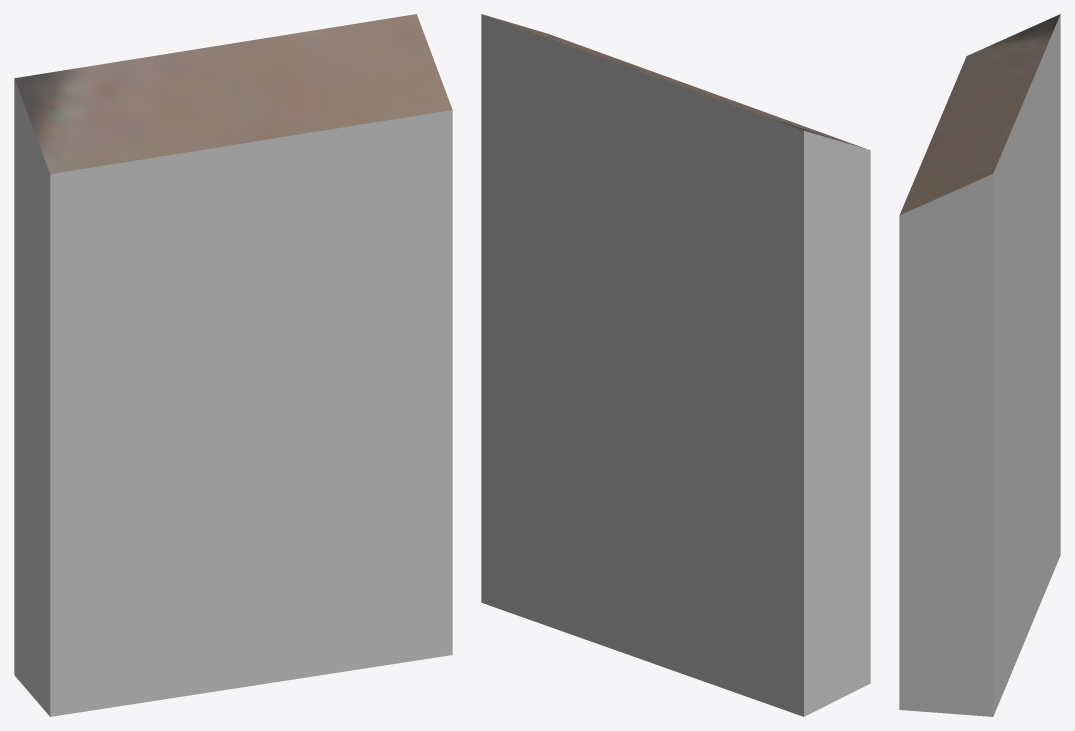
Rendered from DEBW_0010007THZT.gltf.
3 views of the same model, side by side, from view 1: azimuth 30°, elevation 25°; view 2: azimuth 150°, elevation 25°; view 3: azimuth 270°, elevation 25° (orthographic). The views are drawn at different scales.
Visible parts, largest first — view 1: Z_UP; view 2: Z_UP; view 3: Z_UP.
Part boxes in pixels (bbox=[...]): Z_UP: bbox=[14, 14, 452, 716]; Z_UP: bbox=[481, 14, 870, 716]; Z_UP: bbox=[899, 14, 1060, 716].
Size of the model in its own units: 7.18 by 10.78 by 2.9.
Materials: 2 (1 with a texture image).
